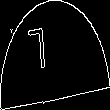L_S: (45, 28, 65, 82)
